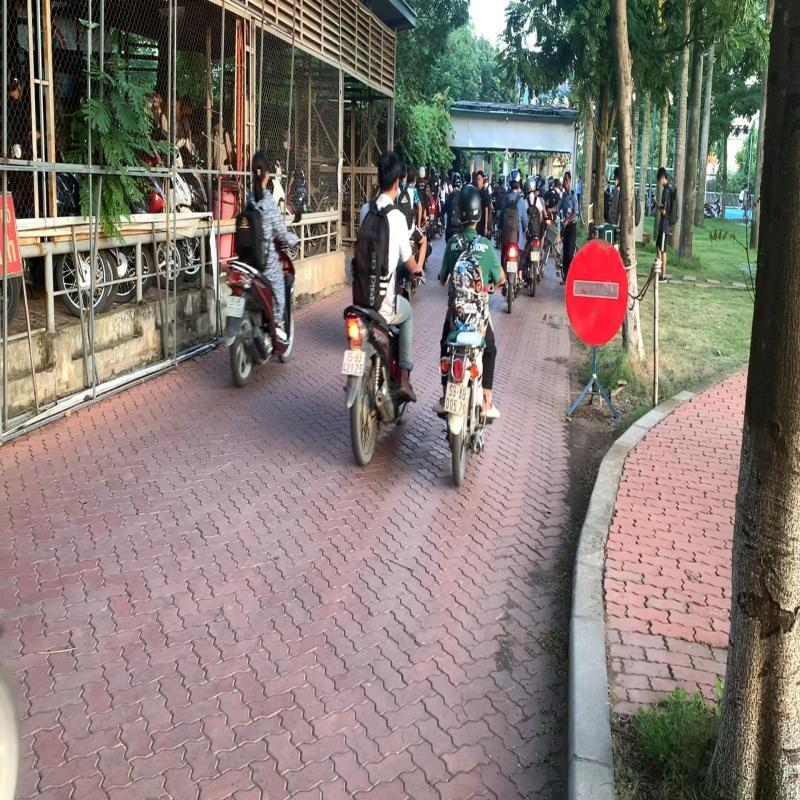nohelmet: (374, 145, 405, 199), (248, 146, 272, 190)
